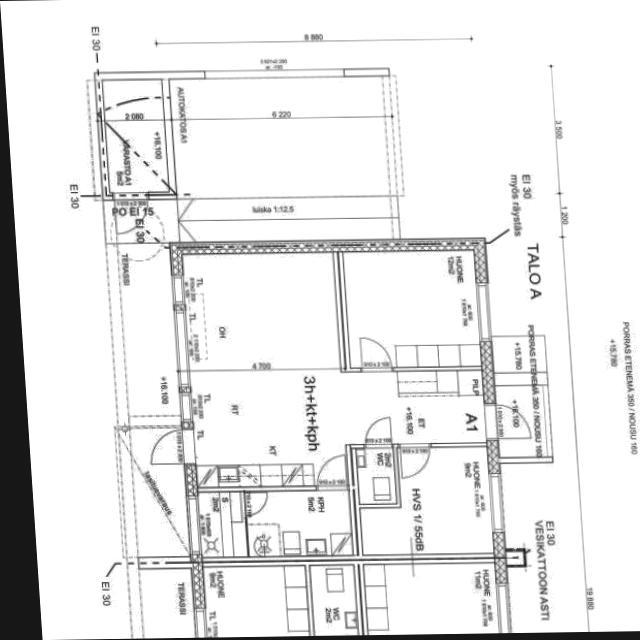room: (344, 250, 481, 366), (359, 445, 494, 554), (103, 77, 168, 193), (245, 489, 352, 556), (356, 445, 396, 505)
